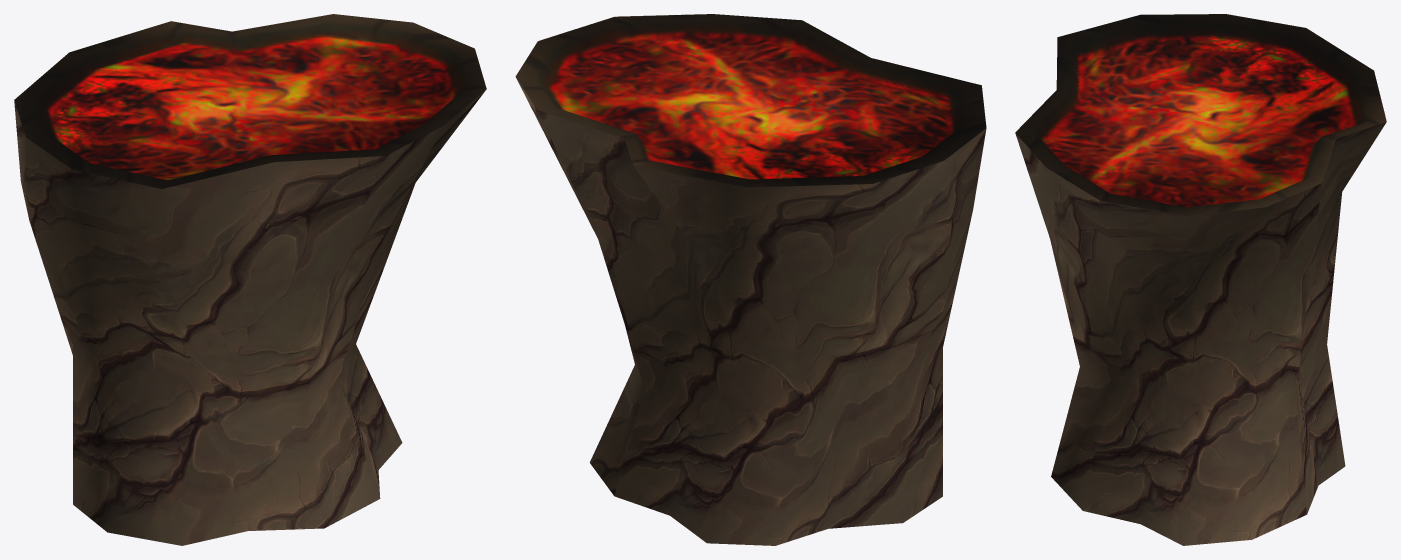
File: Battle02_Pools_04.FBX
The picture shows the model from 3 angles, left to right: view 1: azimuth 30°, elevation 25°; view 2: azimuth 150°, elevation 25°; view 3: azimuth 270°, elevation 25°; orthographic projection. The views are drawn at different scales.
Visible parts, largest first — view 1: Battle02_Pools_04_02, Battle02_Pools_04_01; view 2: Battle02_Pools_04_02, Battle02_Pools_04_01; view 3: Battle02_Pools_04_02, Battle02_Pools_04_01.
Boxes of the visible parts, x1,y1,x2,y2 form: Battle02_Pools_04_02: (14,49,486,545); Battle02_Pools_04_01: (14,14,485,188); Battle02_Pools_04_02: (516,14,986,545); Battle02_Pools_04_01: (515,14,986,187); Battle02_Pools_04_02: (1015,122,1386,545); Battle02_Pools_04_01: (1015,14,1386,216).
Bounding box in the file's own units: 8.89 × 7.54 × 6.88.
